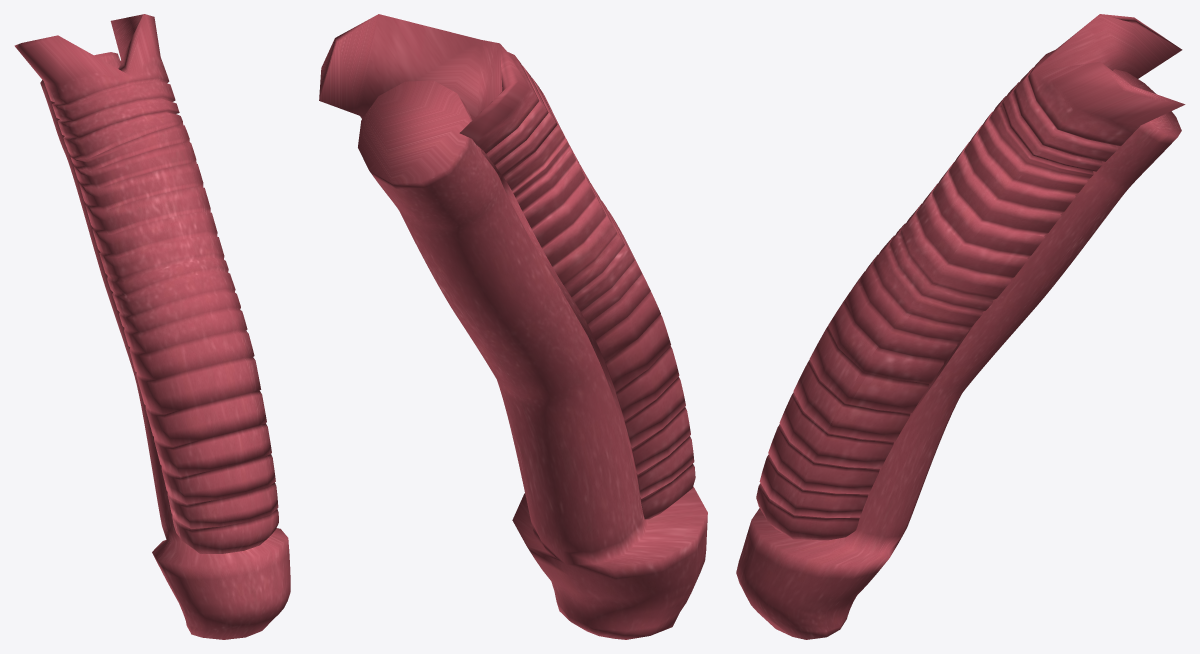
The model's file is Penis.glb.
The picture shows the model from 3 angles, left to right: view 1: azimuth 30°, elevation 25°; view 2: azimuth 150°, elevation 25°; view 3: azimuth 270°, elevation 25°; orthographic projection. The views are drawn at different scales.
Visible parts, largest first — view 1: Penis, Penis.001; view 2: Penis.001, Penis; view 3: Penis, Penis.001.
Part boxes in pixels (bbox=[...]): Penis: bbox=[14, 14, 278, 553]; Penis.001: bbox=[40, 52, 290, 639]; Penis.001: bbox=[358, 80, 707, 639]; Penis: bbox=[319, 14, 695, 519]; Penis: bbox=[756, 14, 1185, 540]; Penis.001: bbox=[736, 69, 1181, 639].
Size of the model in its own units: 1.11 by 4.26 by 2.94.
Materials: 2 (2 with a texture image).
